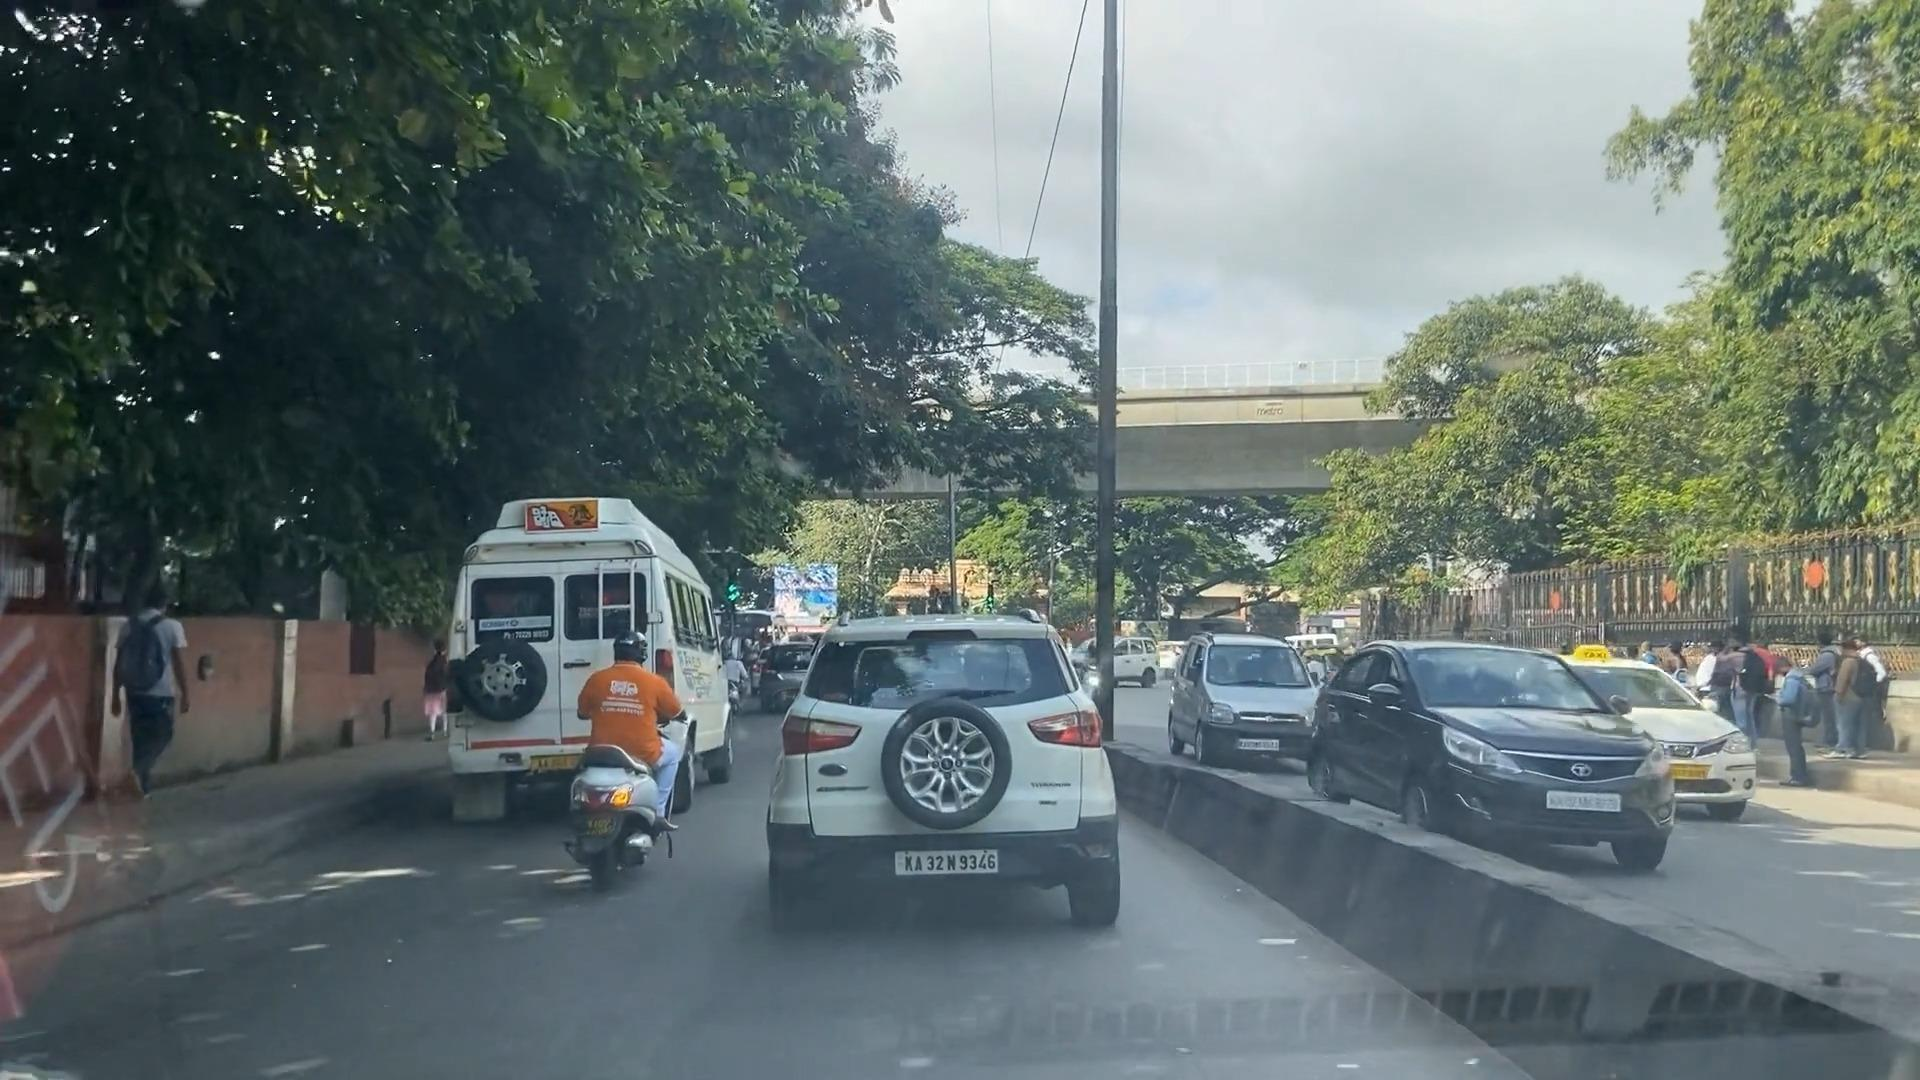HMV: (434, 484, 713, 851)
LMV: (764, 621, 1154, 1005), (570, 617, 686, 910)
